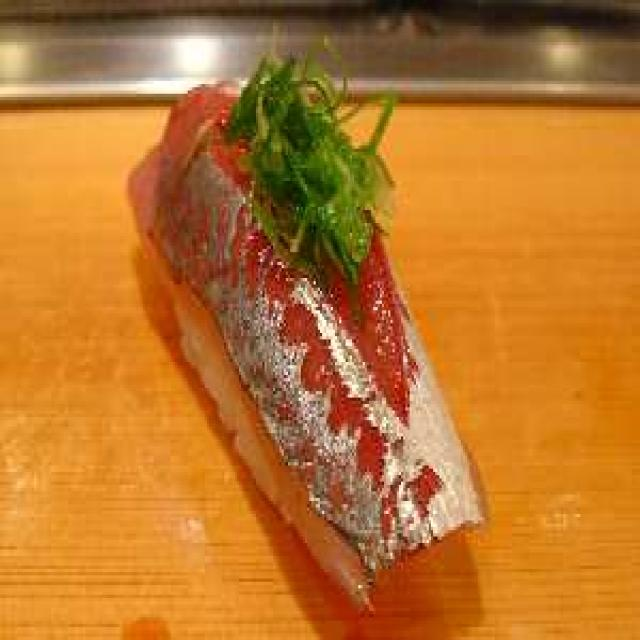寿司卷物: (128, 42, 493, 601)
